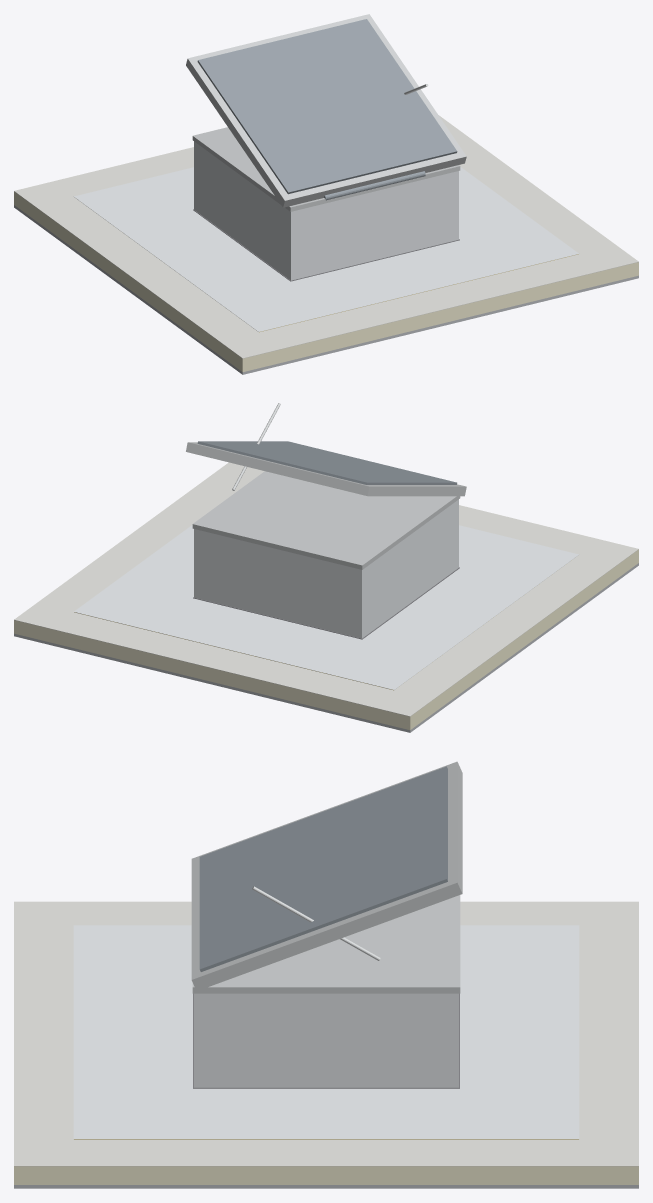
The model's file is roof-hatch-CS-1-TYP.glb.
3 renders of one model, top to bottom at view 1: azimuth 30°, elevation 25°; view 2: azimuth 150°, elevation 25°; view 3: azimuth 270°, elevation 25°, orthographic. The views are drawn at different scales.
Parts seen in each view (by area): view 1: topcoat__field_apron, existing__unit_lid_cap, existing__membrane, topcoat__curb_wrap, existing__insulation, existing__unit_lid, existing__unit_frame, existing__steel_deck, topcoat__curb_cap, existing__unit_hinge; view 2: topcoat__field_apron, existing__membrane, topcoat__curb_wrap, existing__unit_frame, existing__insulation, existing__unit_lid_cap, existing__unit_lid, topcoat__curb_cap, existing__steel_deck; view 3: topcoat__field_apron, existing__membrane, existing__unit_lid_cap, topcoat__curb_wrap, existing__unit_frame, existing__insulation, existing__unit_lid, topcoat__curb_cap, existing__steel_deck.
Part boxes in pixels (left/top/right/bottom): topcoat__field_apron: left=73, top=167, right=578, bottom=331; existing__unit_lid_cap: left=197, top=19, right=457, bottom=194; existing__membrane: left=14, top=115, right=638, bottom=358; topcoat__curb_wrap: left=194, top=147, right=458, bottom=280; existing__insulation: left=14, top=191, right=638, bottom=371; existing__unit_lid: left=186, top=14, right=466, bottom=207; existing__unit_frame: left=192, top=127, right=460, bottom=211; existing__steel_deck: left=14, top=205, right=638, bottom=374; topcoat__curb_cap: left=194, top=141, right=458, bottom=224; existing__unit_hinge: left=324, top=171, right=425, bottom=200; topcoat__field_apron: left=74, top=525, right=579, bottom=689; existing__membrane: left=14, top=462, right=638, bottom=716; topcoat__curb_wrap: left=194, top=505, right=458, bottom=638; existing__unit_frame: left=192, top=471, right=460, bottom=569; existing__insulation: left=14, top=549, right=638, bottom=729; existing__unit_lid_cap: left=197, top=441, right=457, bottom=484; existing__unit_lid: left=186, top=442, right=466, bottom=496; topcoat__curb_cap: left=194, top=499, right=458, bottom=581; existing__steel_deck: left=14, top=563, right=638, bottom=732; topcoat__field_apron: left=73, top=925, right=579, bottom=1139; existing__membrane: left=14, top=901, right=638, bottom=1166; existing__unit_lid_cap: left=199, top=766, right=447, bottom=971; topcoat__curb_wrap: left=194, top=1002, right=458, bottom=1087; existing__unit_frame: left=192, top=895, right=460, bottom=993; existing__insulation: left=14, top=1166, right=638, bottom=1184; existing__unit_lid: left=191, top=761, right=462, bottom=990; topcoat__curb_cap: left=194, top=993, right=458, bottom=1011; existing__steel_deck: left=14, top=1185, right=638, bottom=1188.
Size of the model in its own units: 2.35 by 0.9712 by 2.35.
